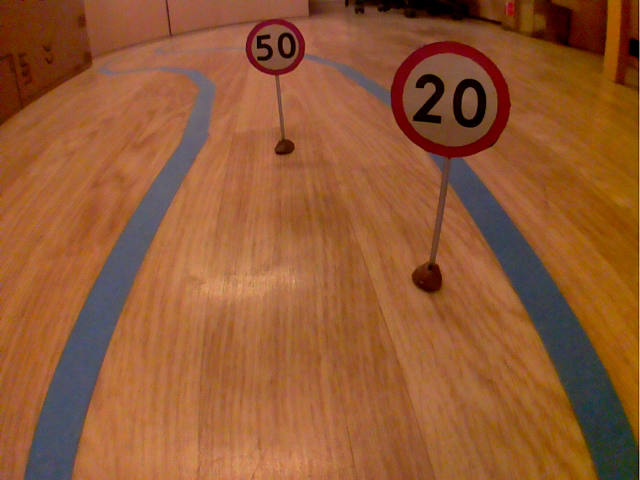Ograniczenie 20: (384, 38, 514, 162)
Ograniczenie 50: (243, 13, 309, 78)
